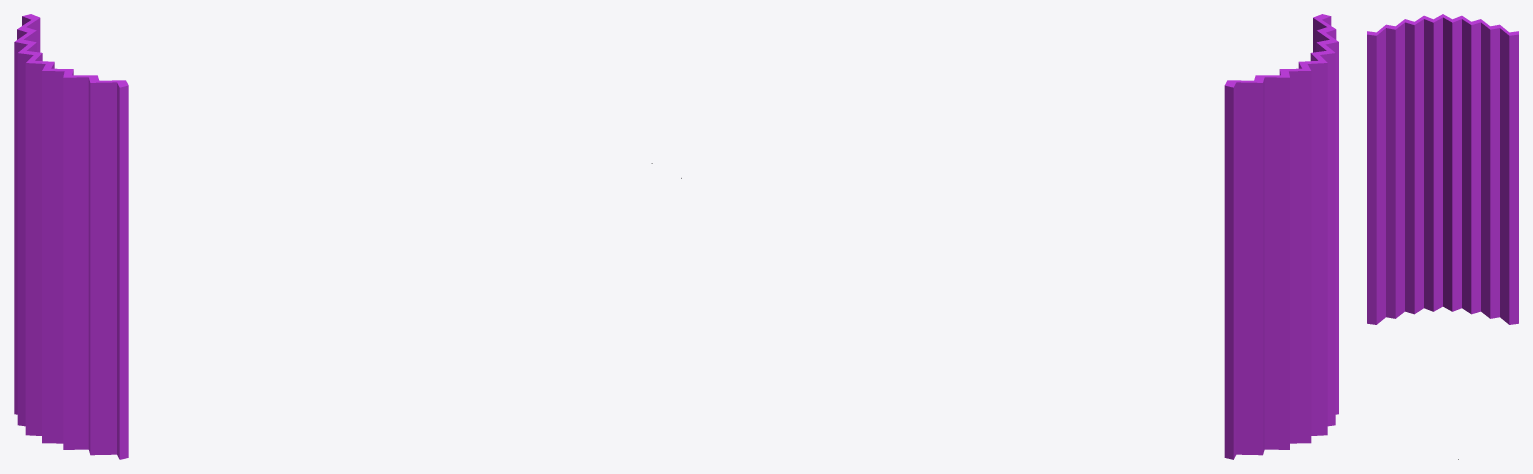
The model's file is ENVIRONMENT_OFFICE_FOXY_KORDEN.fbx.
3 views of the same model, side by side, from view 1: azimuth 30°, elevation 25°; view 2: azimuth 150°, elevation 25°; view 3: azimuth 270°, elevation 25° (orthographic). The views are drawn at different scales.
Parts seen in each view (by area): view 1: Cube.021; view 2: Cube.021; view 3: Cube.021.
Boxes of the visible parts, x1,y1,x2,y2 form: Cube.021: (14,14,128,459); Cube.021: (1224,14,1338,459); Cube.021: (1367,14,1518,324).
Bounding box in the file's own units: 1139 × 637 × 303.
